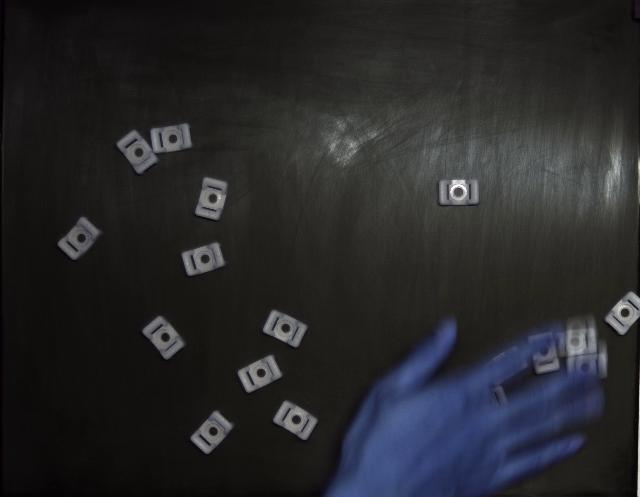first_side: (142, 316, 186, 360), (190, 411, 234, 455), (116, 130, 158, 174), (58, 218, 102, 260), (272, 401, 318, 441), (262, 310, 308, 348), (238, 355, 282, 394), (181, 242, 226, 276), (195, 178, 228, 220), (150, 124, 192, 154), (439, 180, 479, 206)
